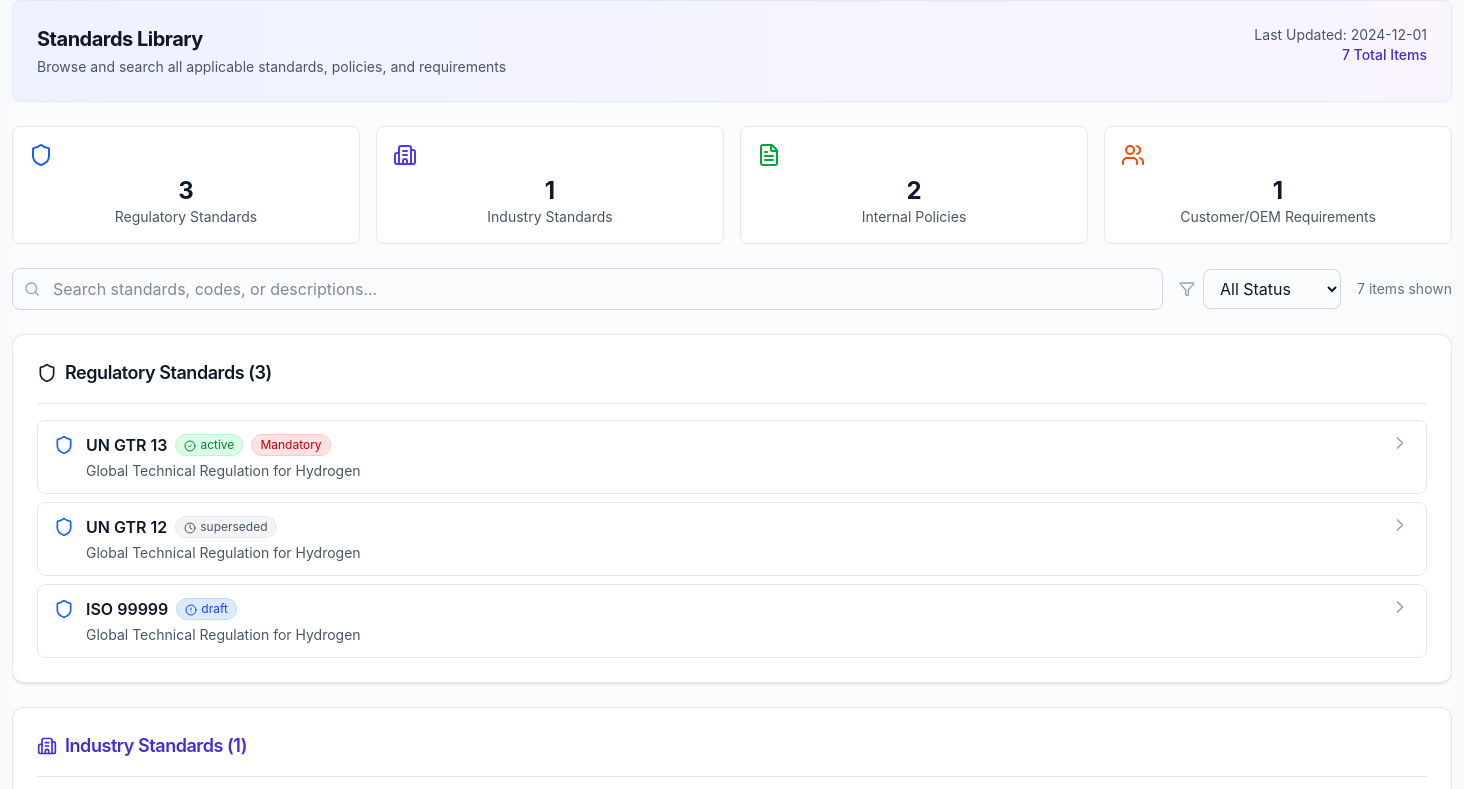
StandardsLibraryPanel › Regulatory Standard Cards › should expand card to show details on click
Step 1. Click the button "UN GTR 13" → (127, 445), box [38,421,1426,493]
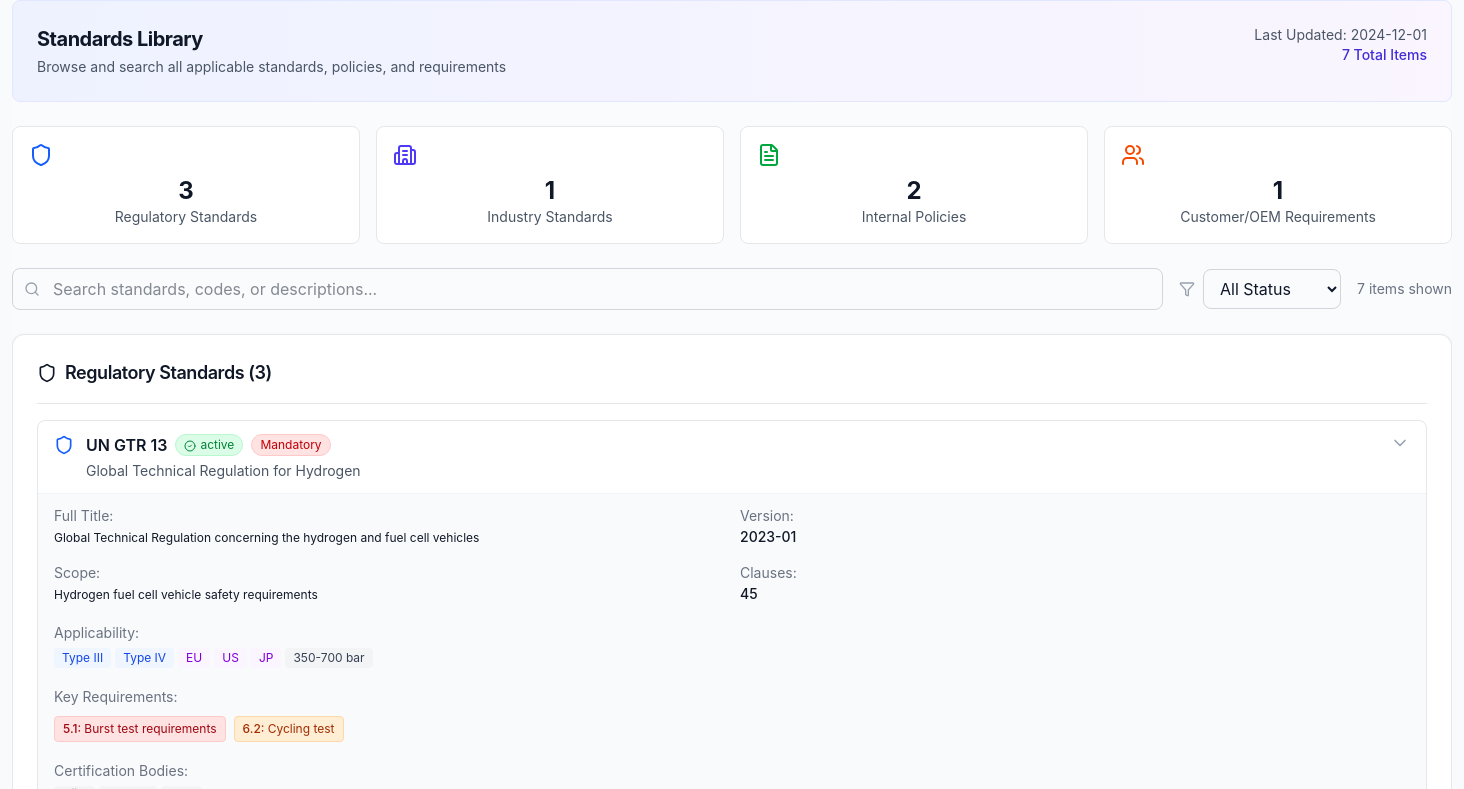
Expected: the text "Full Title:" is shown, [54,507,113,524]
Expected: the text "Global Technical Regulation concerning" is shown, [54,530,480,545]
Expected: the text "Version:" is shown, [740,507,794,524]
